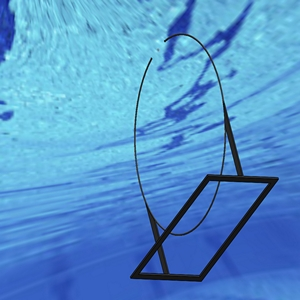circle: (131, 31, 273, 283)
